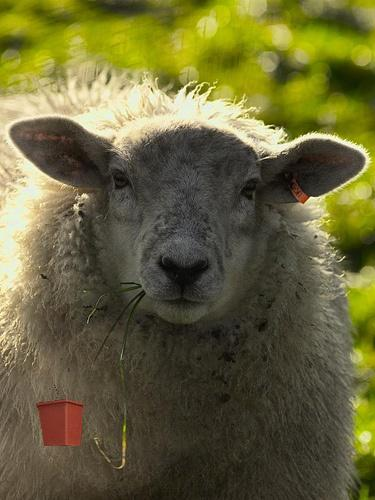tampered: (37, 386, 83, 446)
